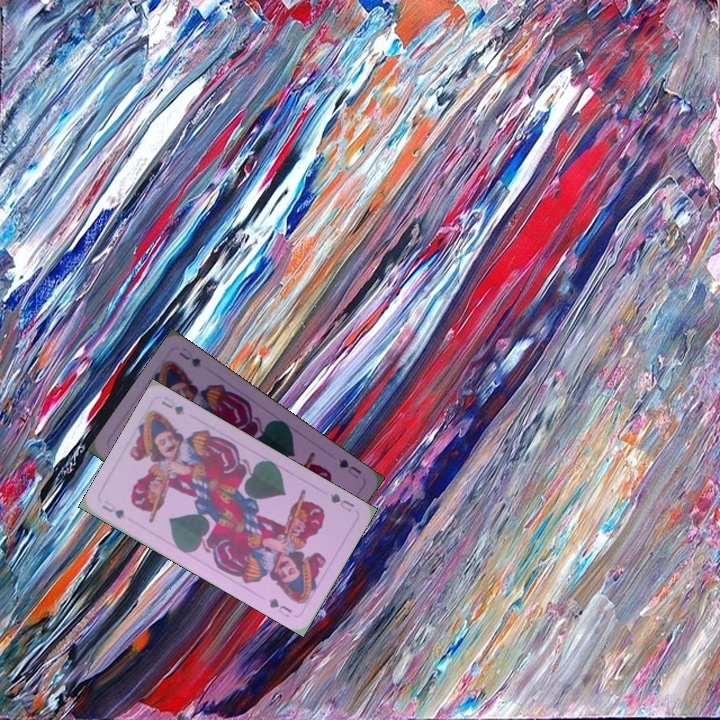GU: (334, 455, 364, 481), (98, 496, 128, 522), (326, 489, 357, 514)
